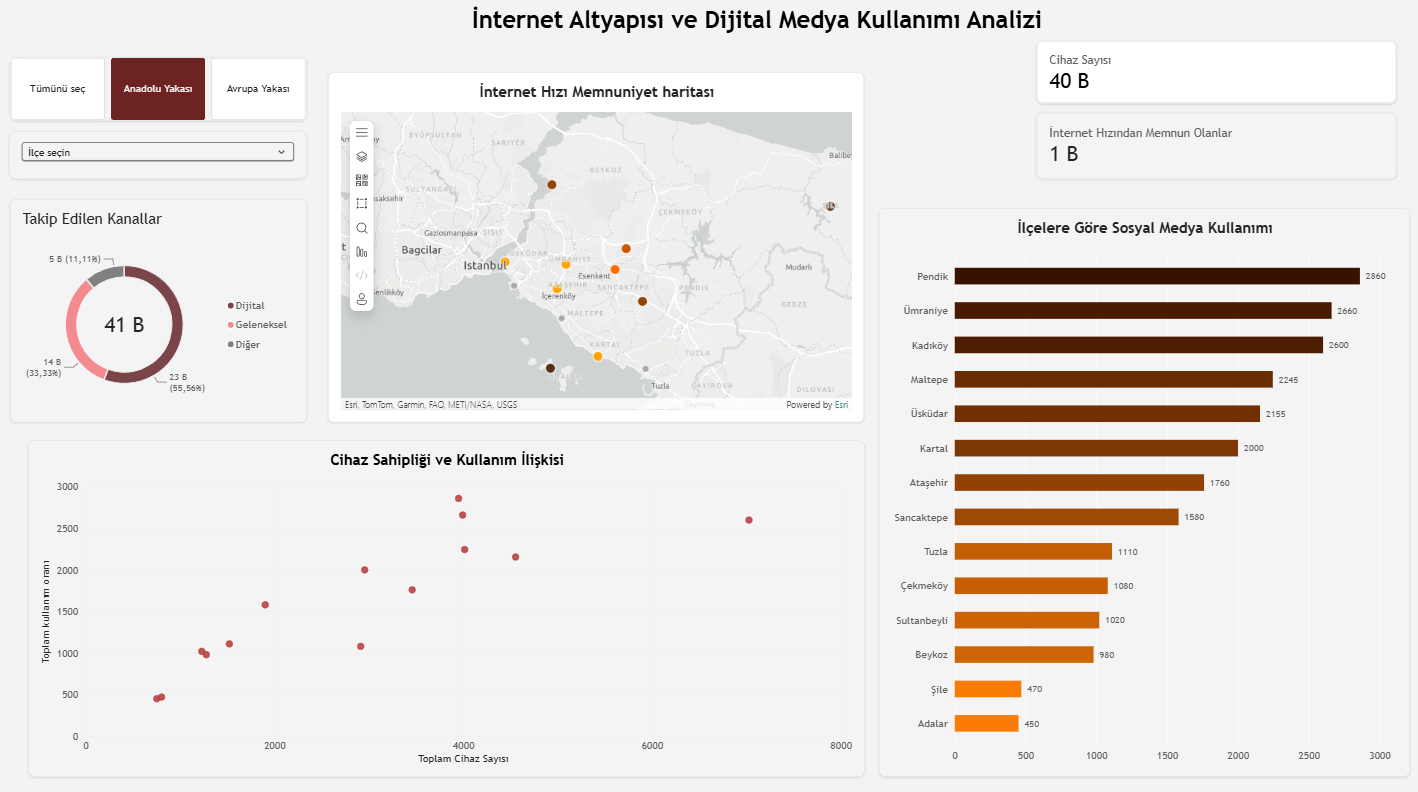

What the dashboard file says about the page in this screenshot:
{"tool":"powerbi","page":{"name":"1. sayfa","canvas":[1920,1080],"ordinal":0},"visuals":[{"type":"scatterChart","title":"Cihaz Sahipliği ve Kullanım İlişkisi","fields":{"Category":["dim_ilçe.İlçe"],"X":["Sum(cihazlar.Cihaz Sayısı)"],"Y":["Sum(gündem_takibi.kullanım oranı)"]},"box":[43.2,597.3,1126.7,453.8],"z":0},{"type":"advancedSlicerVisual","fields":{"Values":["dim_ilçe.Yaka"]},"box":[18.5,81.8,399.7,86.4],"z":1000},{"type":"listSlicer","fields":{"Values":["dim_ilçe.İlçe"]},"box":[17,182.1,401.3,64.8],"z":2000},{"type":"esriVisual","title":"İnternet Hızı Memnuniyet haritası","fields":{"Color":["Sum(memnuniyet. Hız_Memnunum)"],"Location":["dim_ilçe.İlçe"]},"box":[447.6,101.9,722.3,472.3],"z":3000},{"type":"textbox","box":[635.6,13.5,778.4,56.6],"z":4000},{"type":"cardVisual","fields":{"Data":["Sum(cihazlar.Cihaz Sayısı)"]},"box":[1399.9,58.6,486.2,86.4],"z":5000},{"type":"cardVisual","title":"İnternet Hızından Memnun Olanlar","fields":{"Data":["Sum(memnuniyet. Hız_Memnunum)"]},"box":[1399.9,155.9,486.2,91.1],"z":6000},{"type":"donutChart","title":"Takip Edilen Kanallar","fields":{"Category":["dim_medya_türü.Kategori"],"Y":["Sum(gündem_takibi.kullanım oranı)"]},"box":[18.5,273.2,399.7,301],"z":7000},{"type":"clusteredBarChart","title":"İlçelere Göre Sosyal Medya Kullanımı","fields":{"Category":["dim_ilçe.İlçe"],"Y":["Sum(gündem_takibi.kullanım oranı)"]},"box":[1188.4,285.5,714.6,765.5],"z":8000}]}

Visuals, with their boxes in screenshot pixels (x1, y1, x2, y2), scaled from the page's 1920x1080 canvas onto the 1418x792 screenshot:
"Cihaz Sahipliği ve Kullanım İlişkisi" scatterChart: locate(32, 438, 864, 771)
advancedSlicerVisual - dim_ilçe.Yaka: locate(14, 60, 309, 123)
listSlicer - dim_ilçe.İlçe: locate(13, 134, 309, 181)
"İnternet Hızı Memnuniyet haritası" esriVisual: locate(331, 75, 864, 421)
textbox: locate(469, 10, 1044, 51)
cardVisual - Sum(cihazlar.Cihaz Sayısı): locate(1034, 43, 1393, 106)
"İnternet Hızından Memnun Olanlar" cardVisual: locate(1034, 114, 1393, 181)
"Takip Edilen Kanallar" donutChart: locate(14, 200, 309, 421)
"İlçelere Göre Sosyal Medya Kullanımı" clusteredBarChart: locate(878, 209, 1405, 771)
